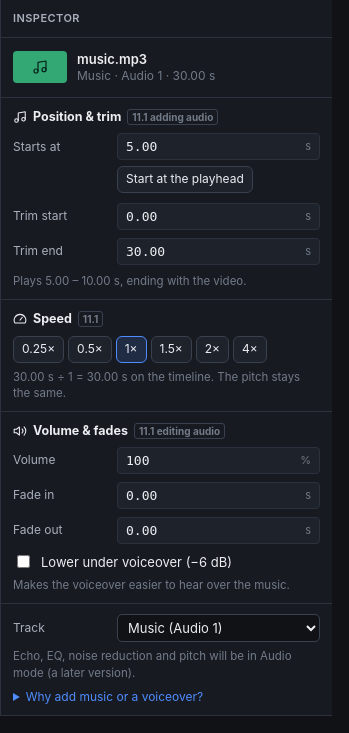
Scenario: V13 audio inspector (screen 08) › lowers the music under the voiceover, and moves a sound to the voiceover track
Click the checkbox labelled "Lower under voiceover (−6 dB)".
click(24, 562)  # box [17,555,30,568]
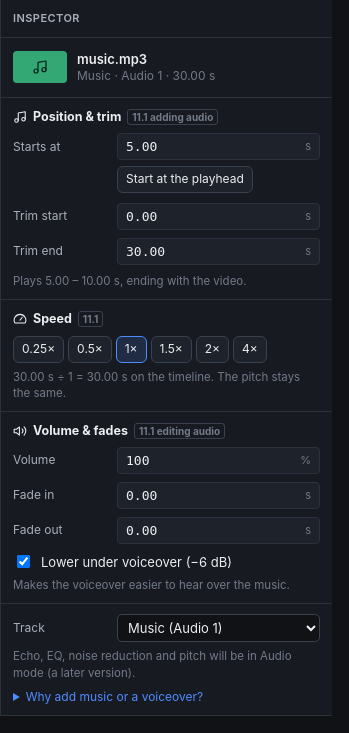
Select "Voiceover (Audio 2)" in the dropdown labelled "Track" at point(218, 628), box [117,614,320,642]
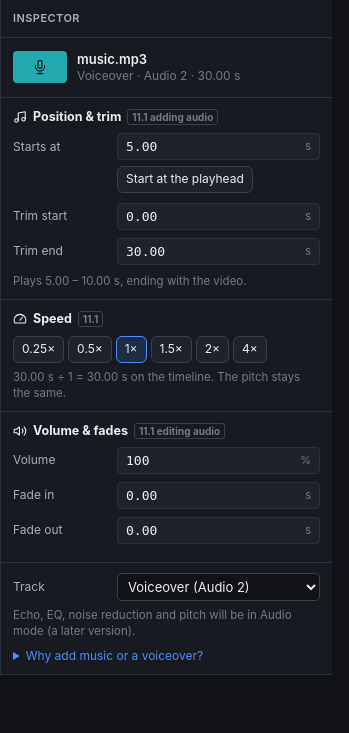
expect the label labelled "Lower under voiceover (−6 dB)" is gone: met
expect the text "Voiceover · Audio 2 · 30.00 s" is shown: met, box [77,68,240,85]
